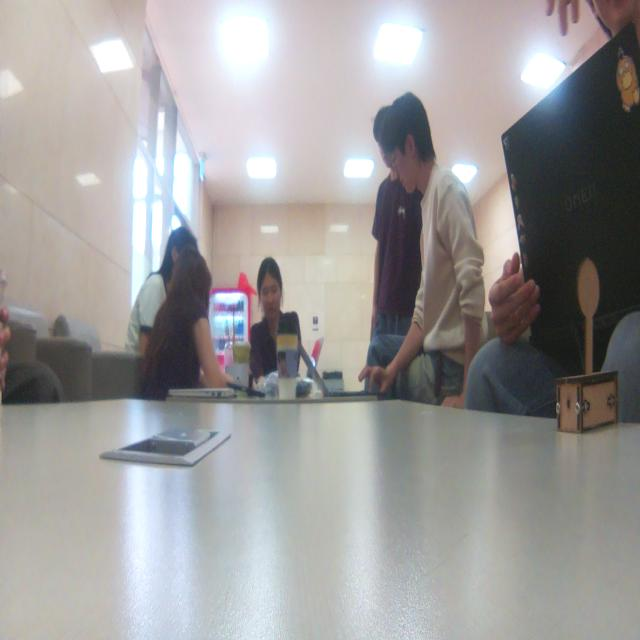target: (554, 255, 619, 435)
